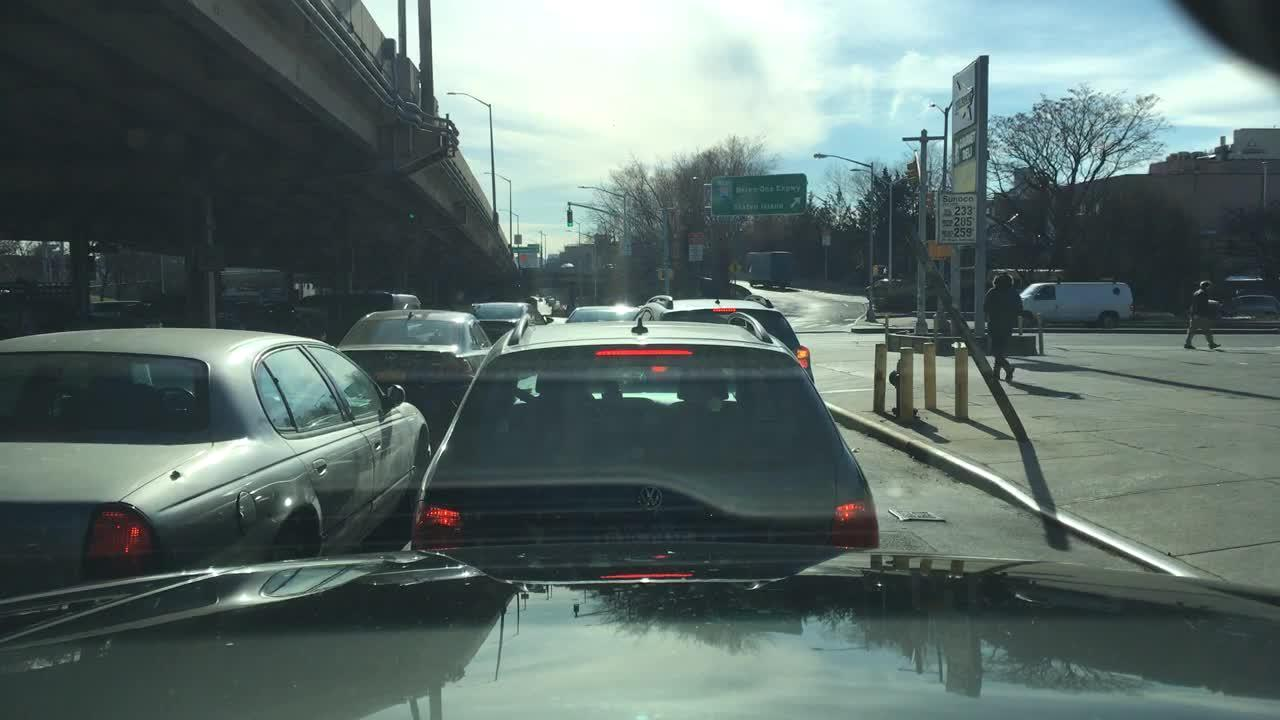Volkswagen: (632, 474, 670, 515)
